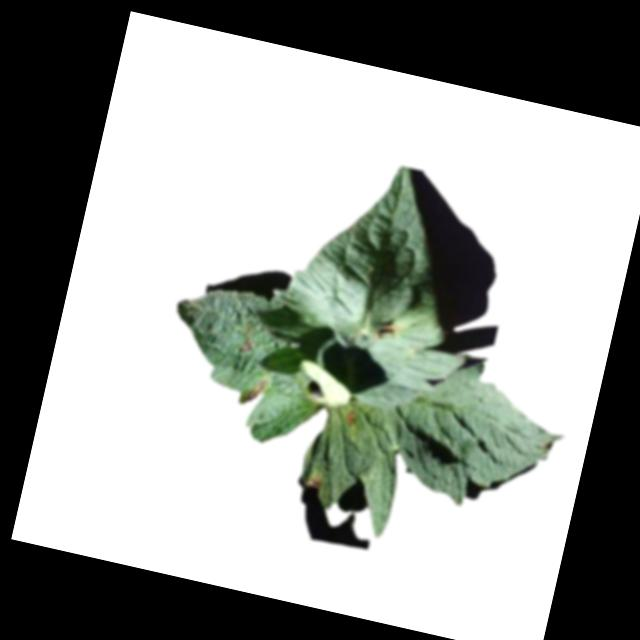Early_blight: (242, 374, 271, 405), (373, 317, 401, 343), (342, 407, 359, 428), (306, 473, 324, 492), (237, 337, 253, 353)
